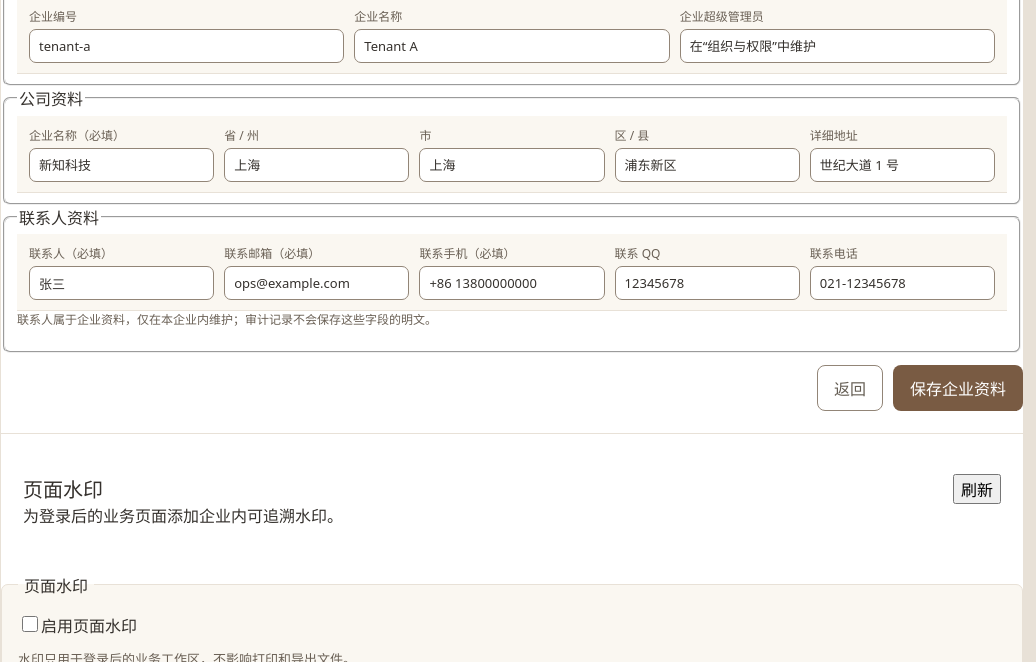
system settings archive pages › loads and saves the enterprise profile and workspace watermark
The width and height of the screenshot is (1036, 662).
Expected: the field showing "新知科技" is shown, [29, 148, 214, 182]
Expected: the heading "页面水印" is shown, [23, 476, 103, 502]
Click the checkbox labelled "启用页面水印". click: (30, 624)
box: [22, 616, 38, 632]
(page scrolled)
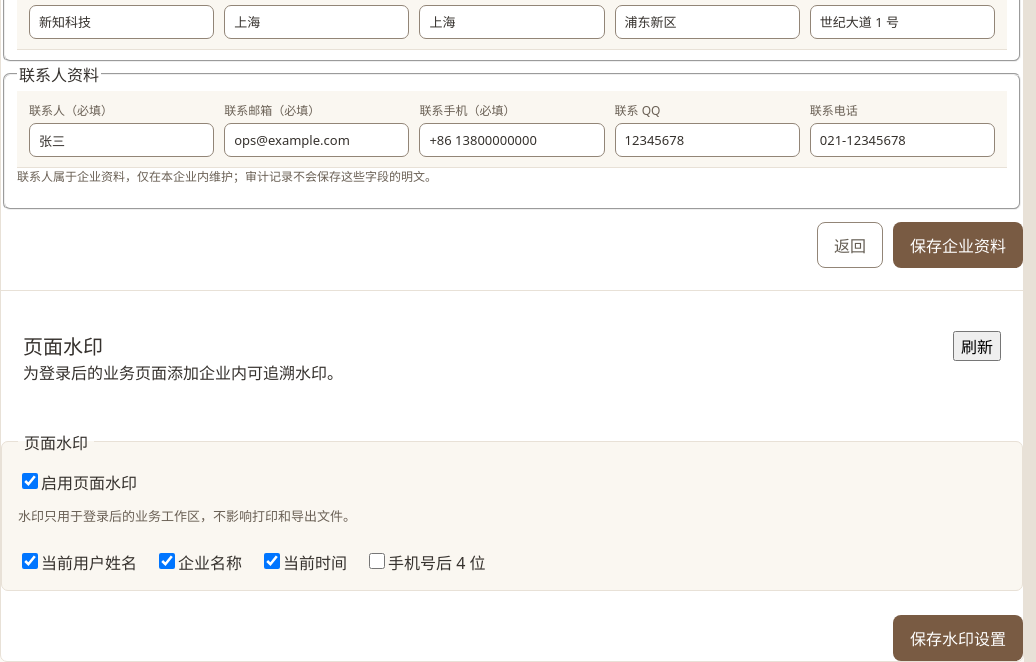
Now the checkbox labelled "手机号后 4 位" is enabled
Click the checkbox labelled "手机号后 4 位". click: (377, 560)
box: [369, 552, 385, 568]
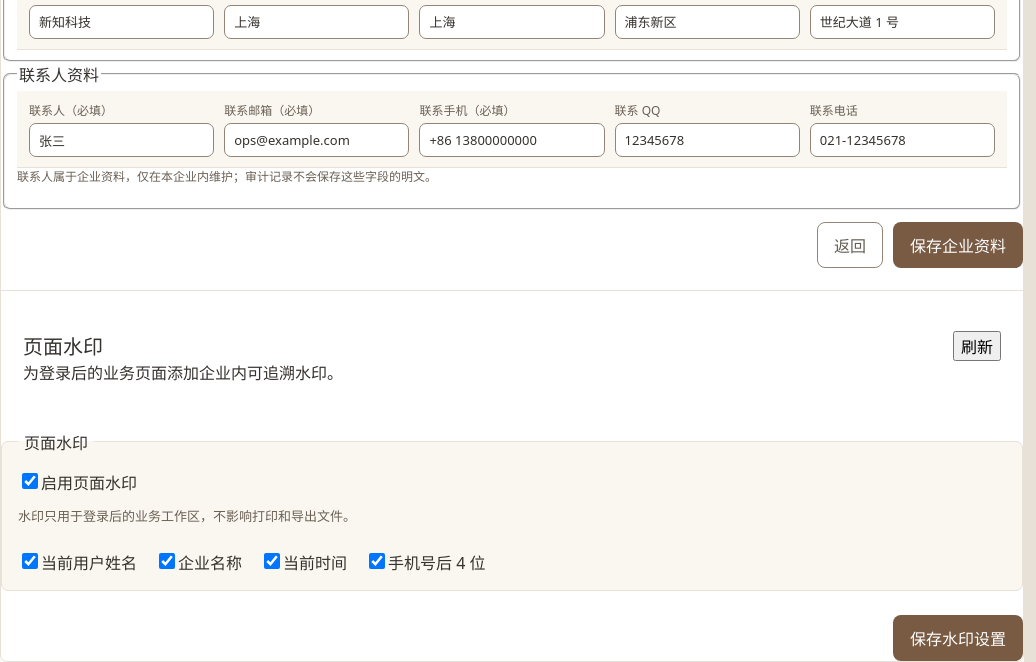
Click the button "保存水印设置". click: (958, 638)
box: [893, 614, 1023, 660]
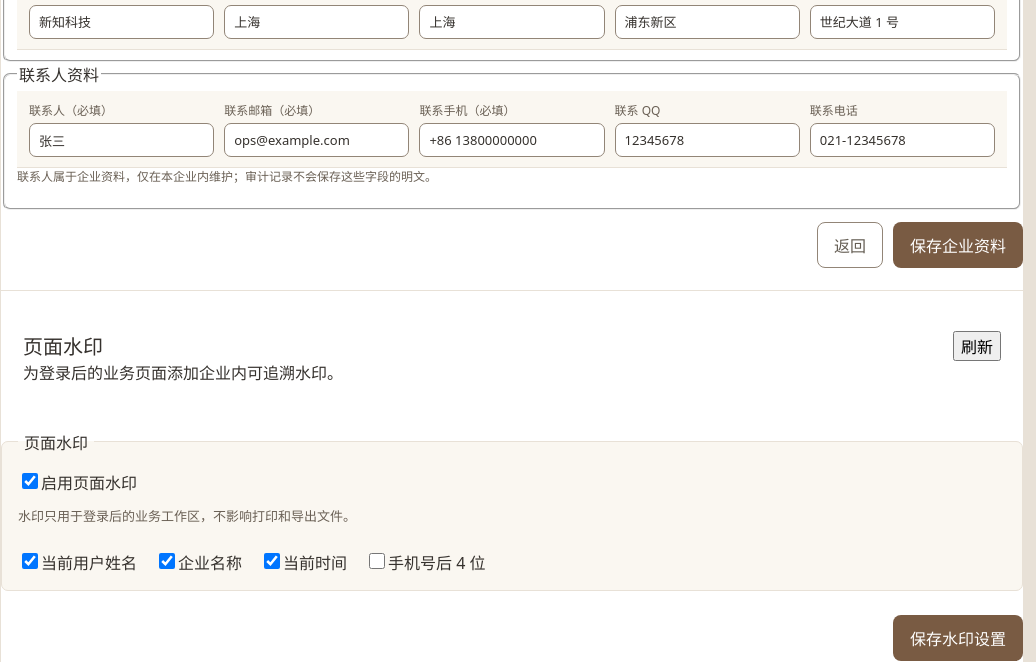
Replace the text in the field labelled "企业名称（必填）" with "新知科技有限公司". click: (122, 22)
box: [29, 4, 214, 38]
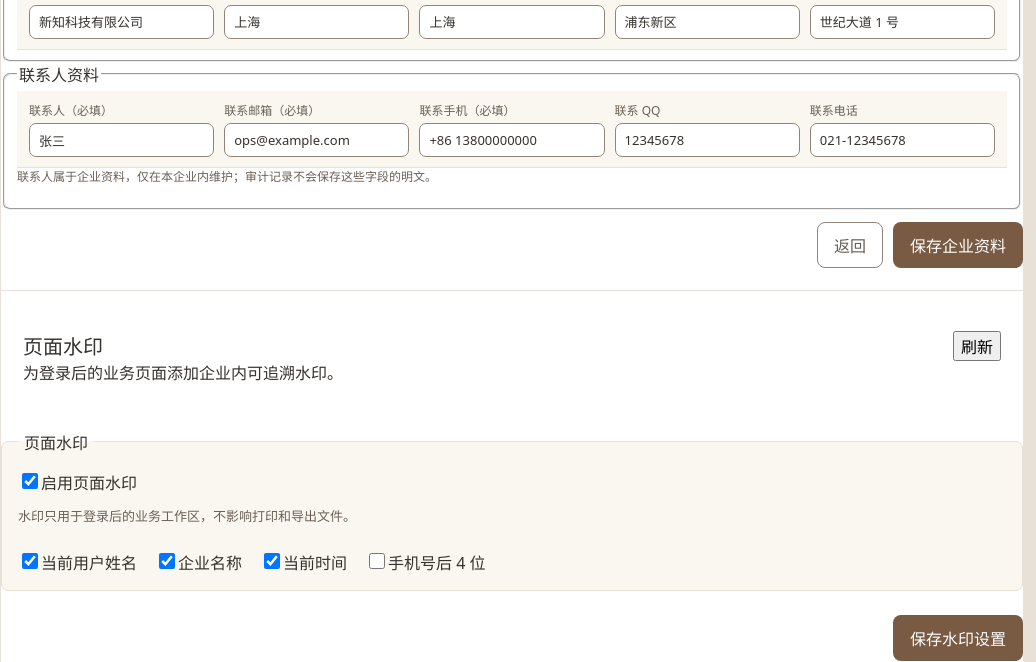
Click the button "保存企业资料". click: (958, 244)
box: [893, 222, 1023, 268]
(page scrolled)
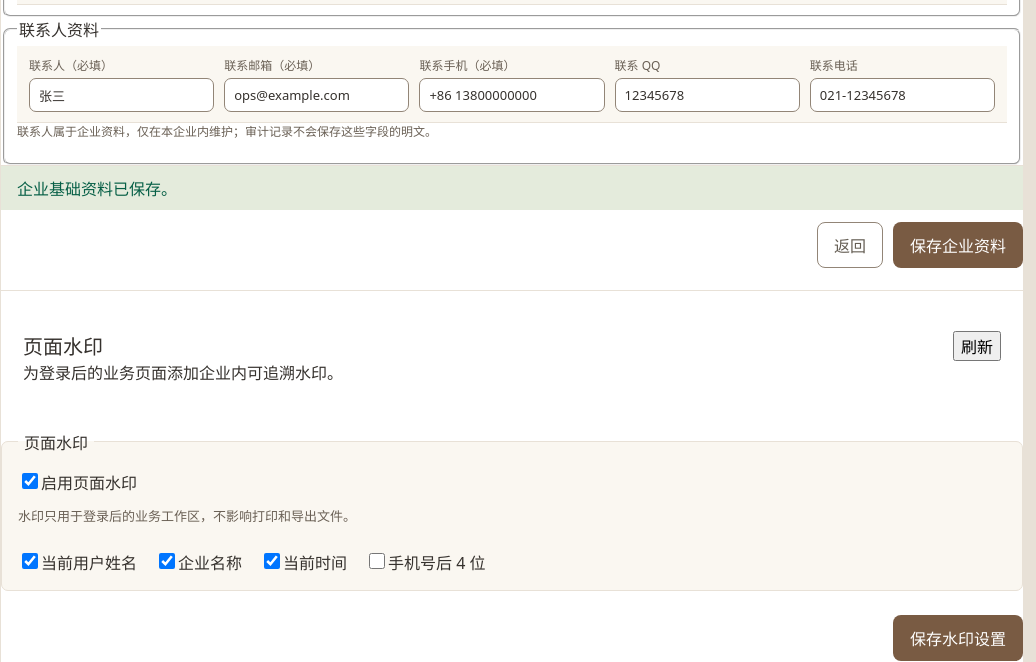
Now the text "企业基础资料已保存。" is shown, box [1, 164, 1023, 210]
